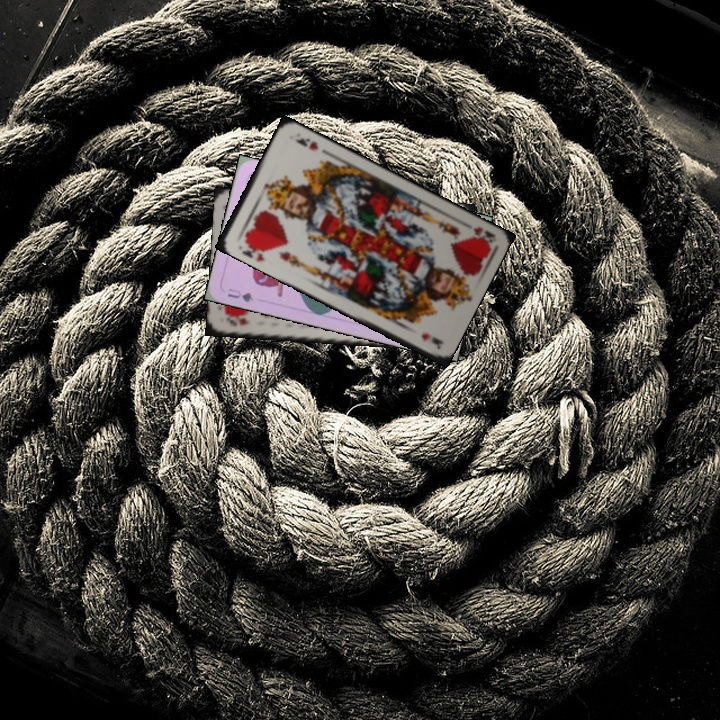GU: (224, 284, 256, 305)
HK: (238, 236, 270, 264), (469, 223, 496, 247), (222, 312, 252, 329)
